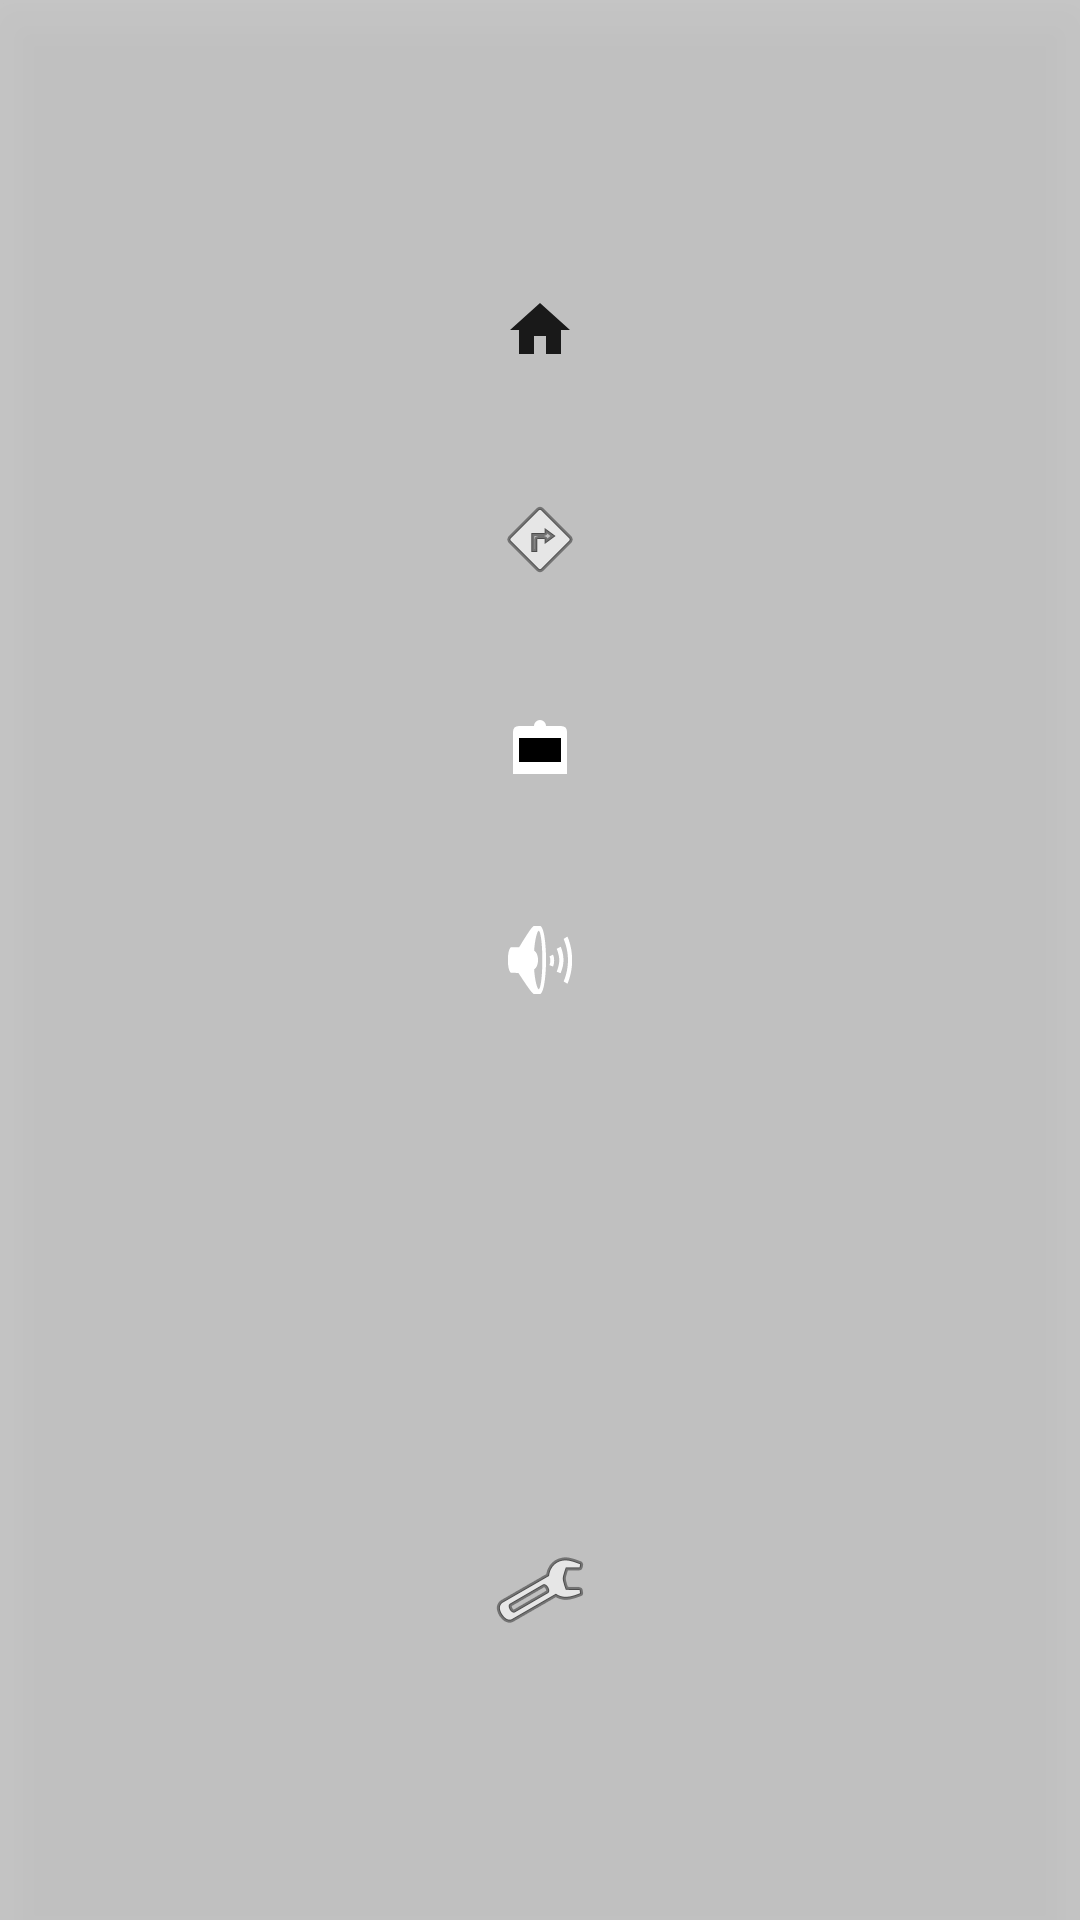

Icons on this 1080 × 1920 Android screen, each with its box as (x1, y1, x2, y2):
主页: (510, 303, 570, 354)
导航: (507, 507, 573, 572)
应用管理: (497, 1557, 583, 1623)
收音机: (513, 720, 567, 774)
音乐: (508, 926, 572, 994)
